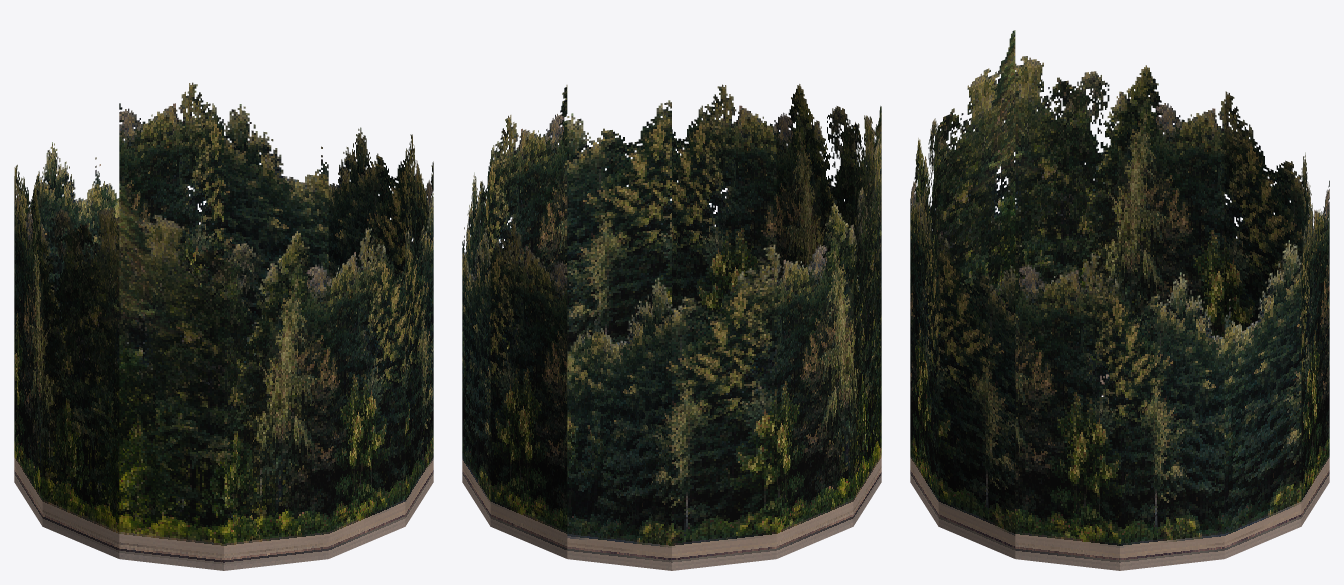
The model's file is forestSkybox.glb.
The picture shows the model from 3 angles, left to right: view 1: azimuth 30°, elevation 25°; view 2: azimuth 150°, elevation 25°; view 3: azimuth 270°, elevation 25°; orthographic projection.
Visible parts, largest first — view 1: forestSkybox; view 2: forestSkybox; view 3: forestSkybox.
Boxes of the visible parts, x1,y1,x2,y2 form: forestSkybox: (14, 82, 433, 570); forestSkybox: (462, 84, 881, 570); forestSkybox: (910, 30, 1329, 570).
Size of the model in its own units: 2 by 2 by 2.
1 material, 1 textured.
